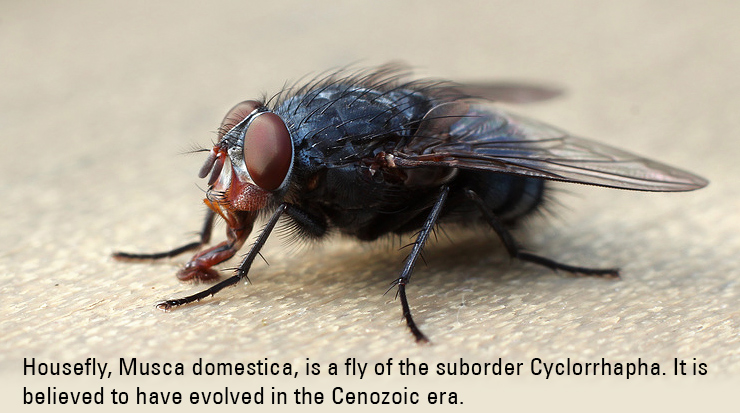house fly: (108, 50, 712, 348)
